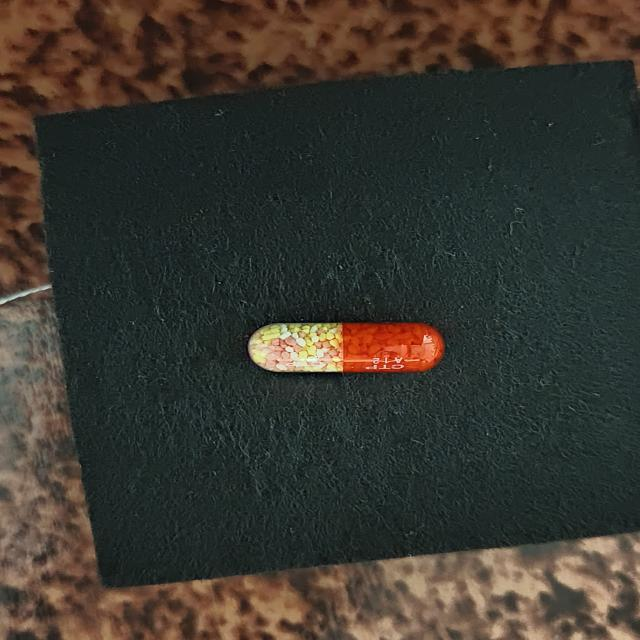Intact Capsule: (248, 322, 445, 372)
